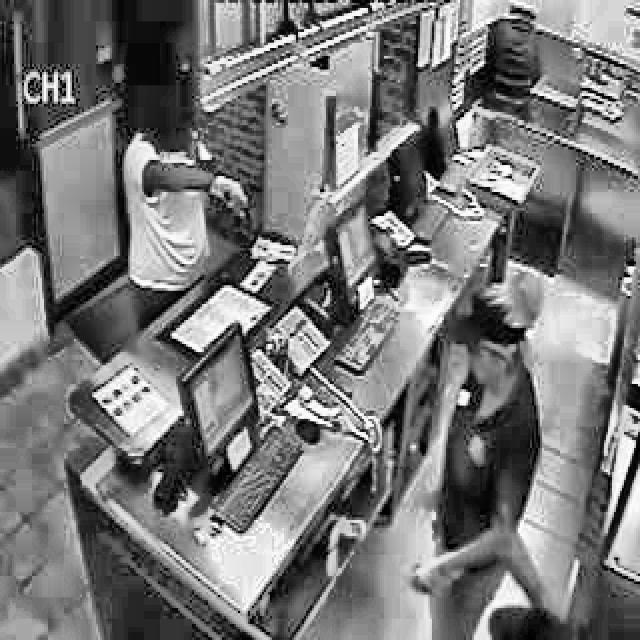robbery: (116, 67, 268, 330)
